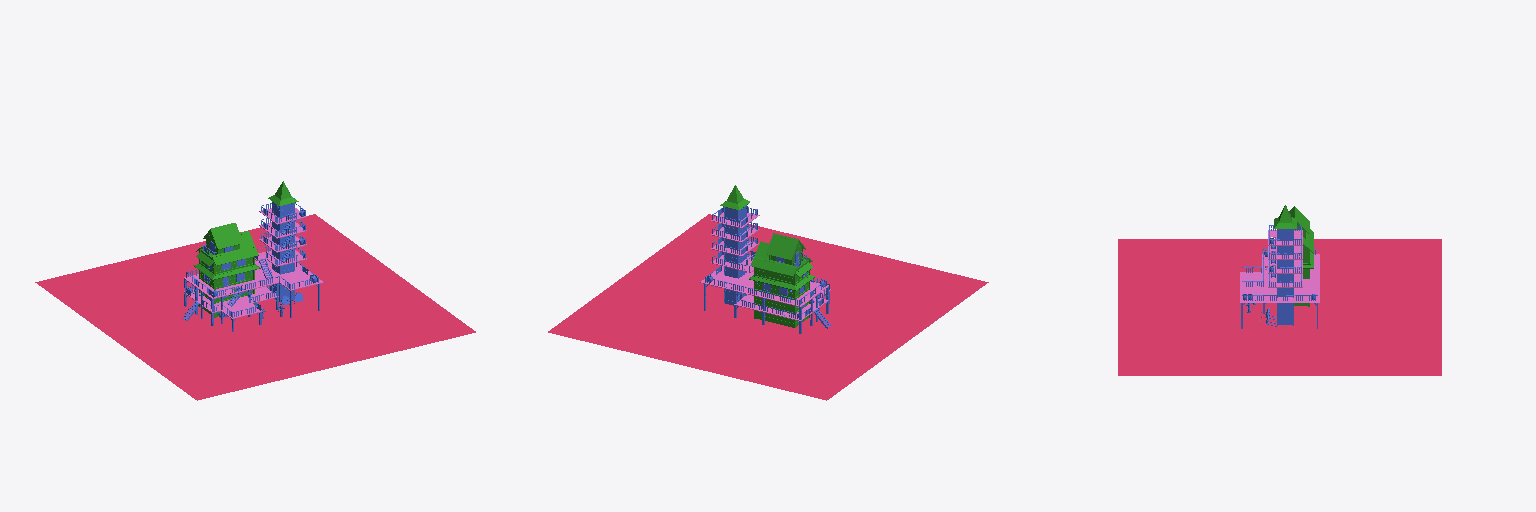
The model's file is lp_tower.obj.
3 renders of one model, left to right at view 1: azimuth 30°, elevation 25°; view 2: azimuth 150°, elevation 25°; view 3: azimuth 270°, elevation 25°, orthographic.
Visible parts, largest first — view 1: ground_Mesh, roof_02_Mesh, roof_03_Mesh; view 2: ground_Mesh, roof_02_Mesh, roof_03_Mesh; view 3: ground_Mesh.
Part boxes in pixels (x1,y1,x2,y2): ground_Mesh: (35, 214, 475, 400); roof_02_Mesh: (196, 231, 258, 265); roof_03_Mesh: (203, 223, 242, 249); ground_Mesh: (548, 214, 988, 400); roof_02_Mesh: (751, 241, 812, 276); roof_03_Mesh: (766, 233, 805, 259); ground_Mesh: (1118, 239, 1441, 375).
Bounding box in the file's own units: 50 × 22.61 × 50.